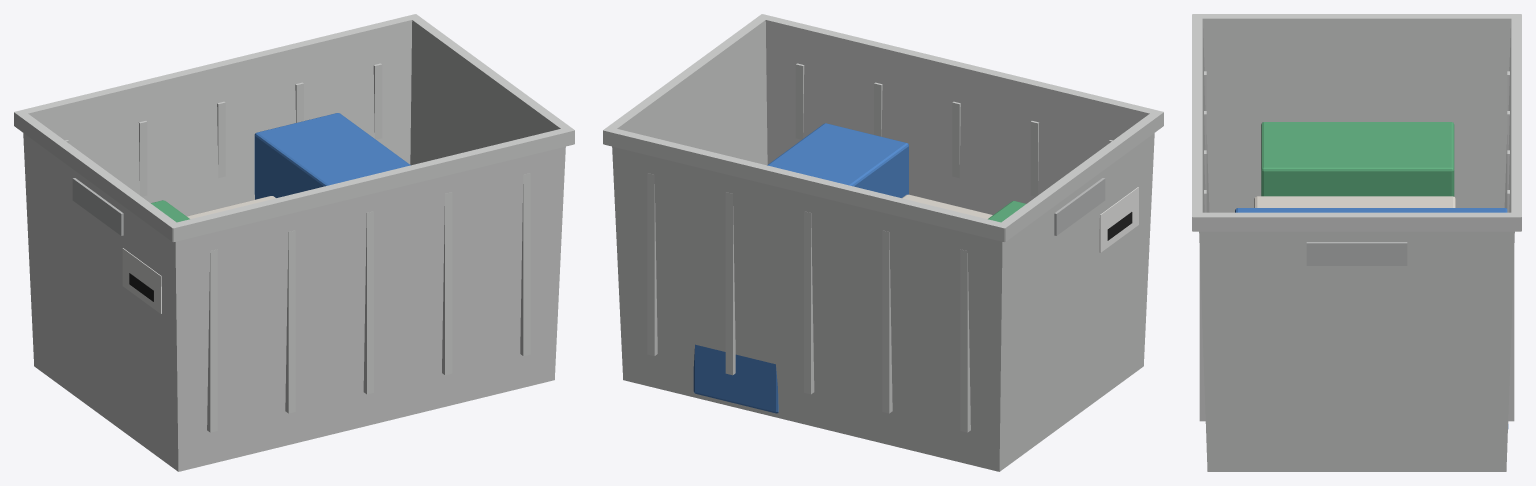
File: rapyuta_bin_v3.fbx
The picture shows the model from 3 angles, left to right: view 1: azimuth 30°, elevation 25°; view 2: azimuth 150°, elevation 25°; view 3: azimuth 270°, elevation 25°; orthographic projection. The views are drawn at different scales.
Parts seen in each view (by area): view 1: RapyutaBin_v3; view 2: RapyutaBin_v3; view 3: RapyutaBin_v3.
Boxes of the visible parts, <box> form: RapyutaBin_v3: <box>14,14,574,471</box>; RapyutaBin_v3: <box>603,14,1163,471</box>; RapyutaBin_v3: <box>1192,14,1521,471</box>.
Size of the model in its own units: 0.668 by 0.4 by 0.458.
